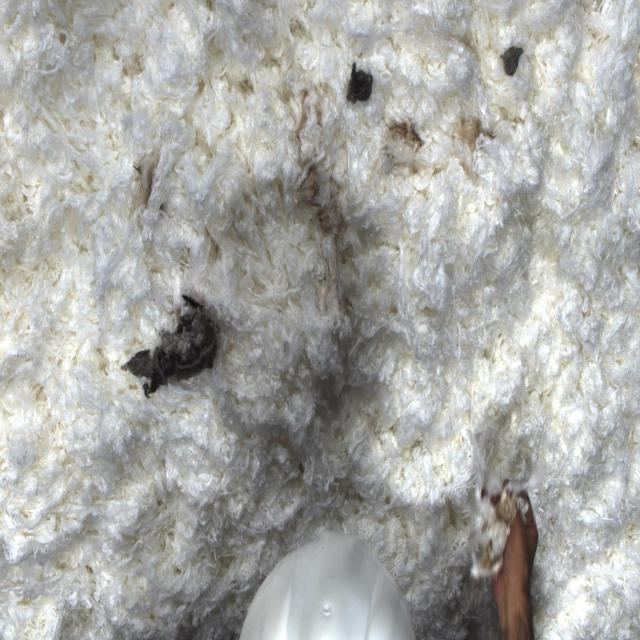dust: (113, 292, 224, 401), (476, 476, 535, 640), (241, 531, 297, 640), (333, 38, 386, 129), (294, 168, 346, 241), (491, 22, 529, 98), (447, 106, 494, 156), (381, 118, 429, 159)
